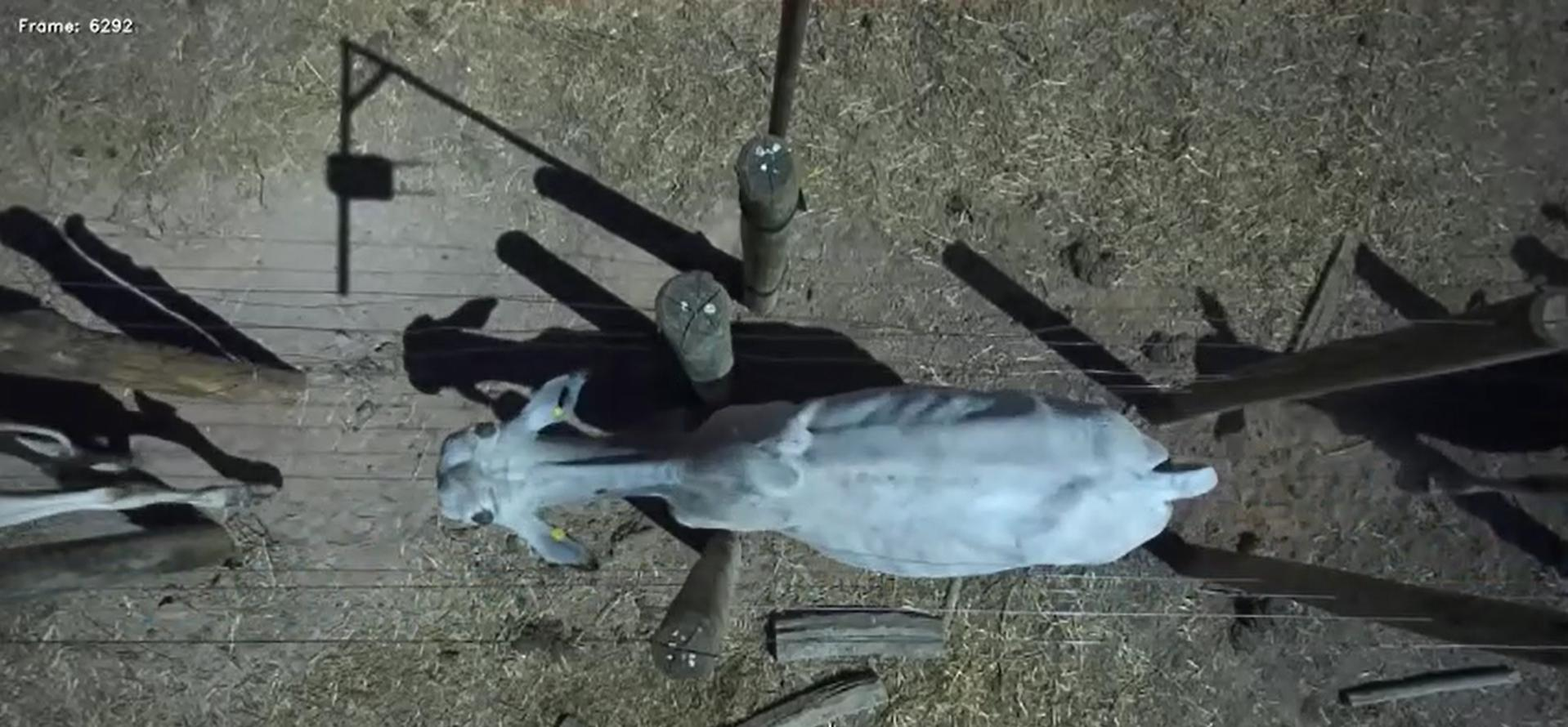cattle: (427, 355, 1224, 583)
